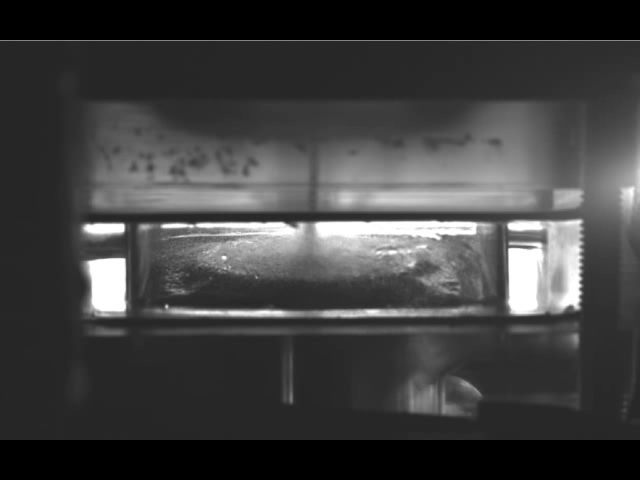Zona de teste: (192, 231, 416, 285)
